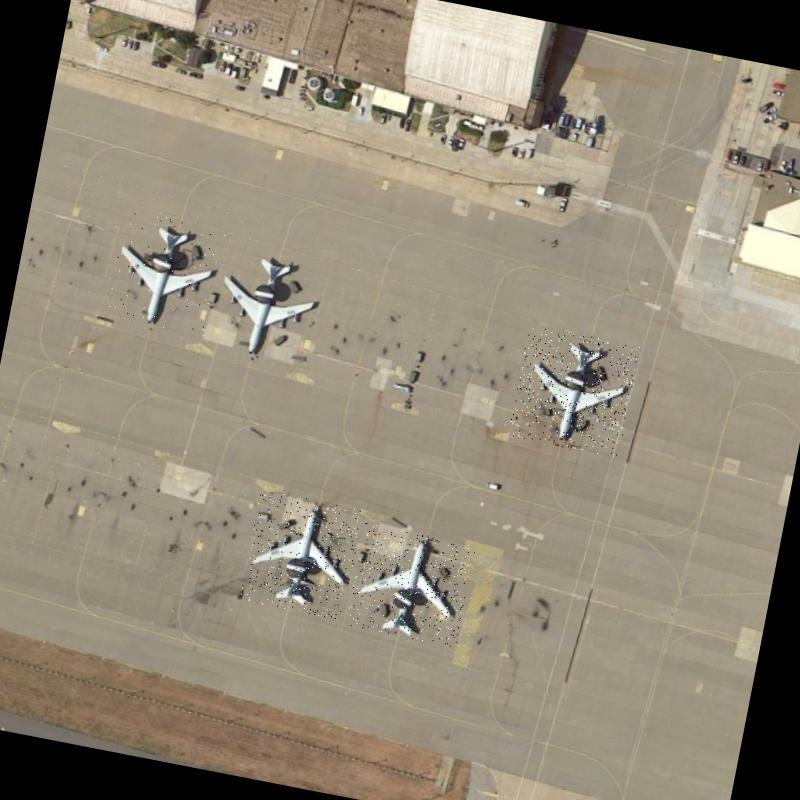A7: (507, 324, 640, 458), (345, 522, 476, 648), (238, 489, 364, 620), (104, 208, 226, 338), (207, 242, 333, 367)
